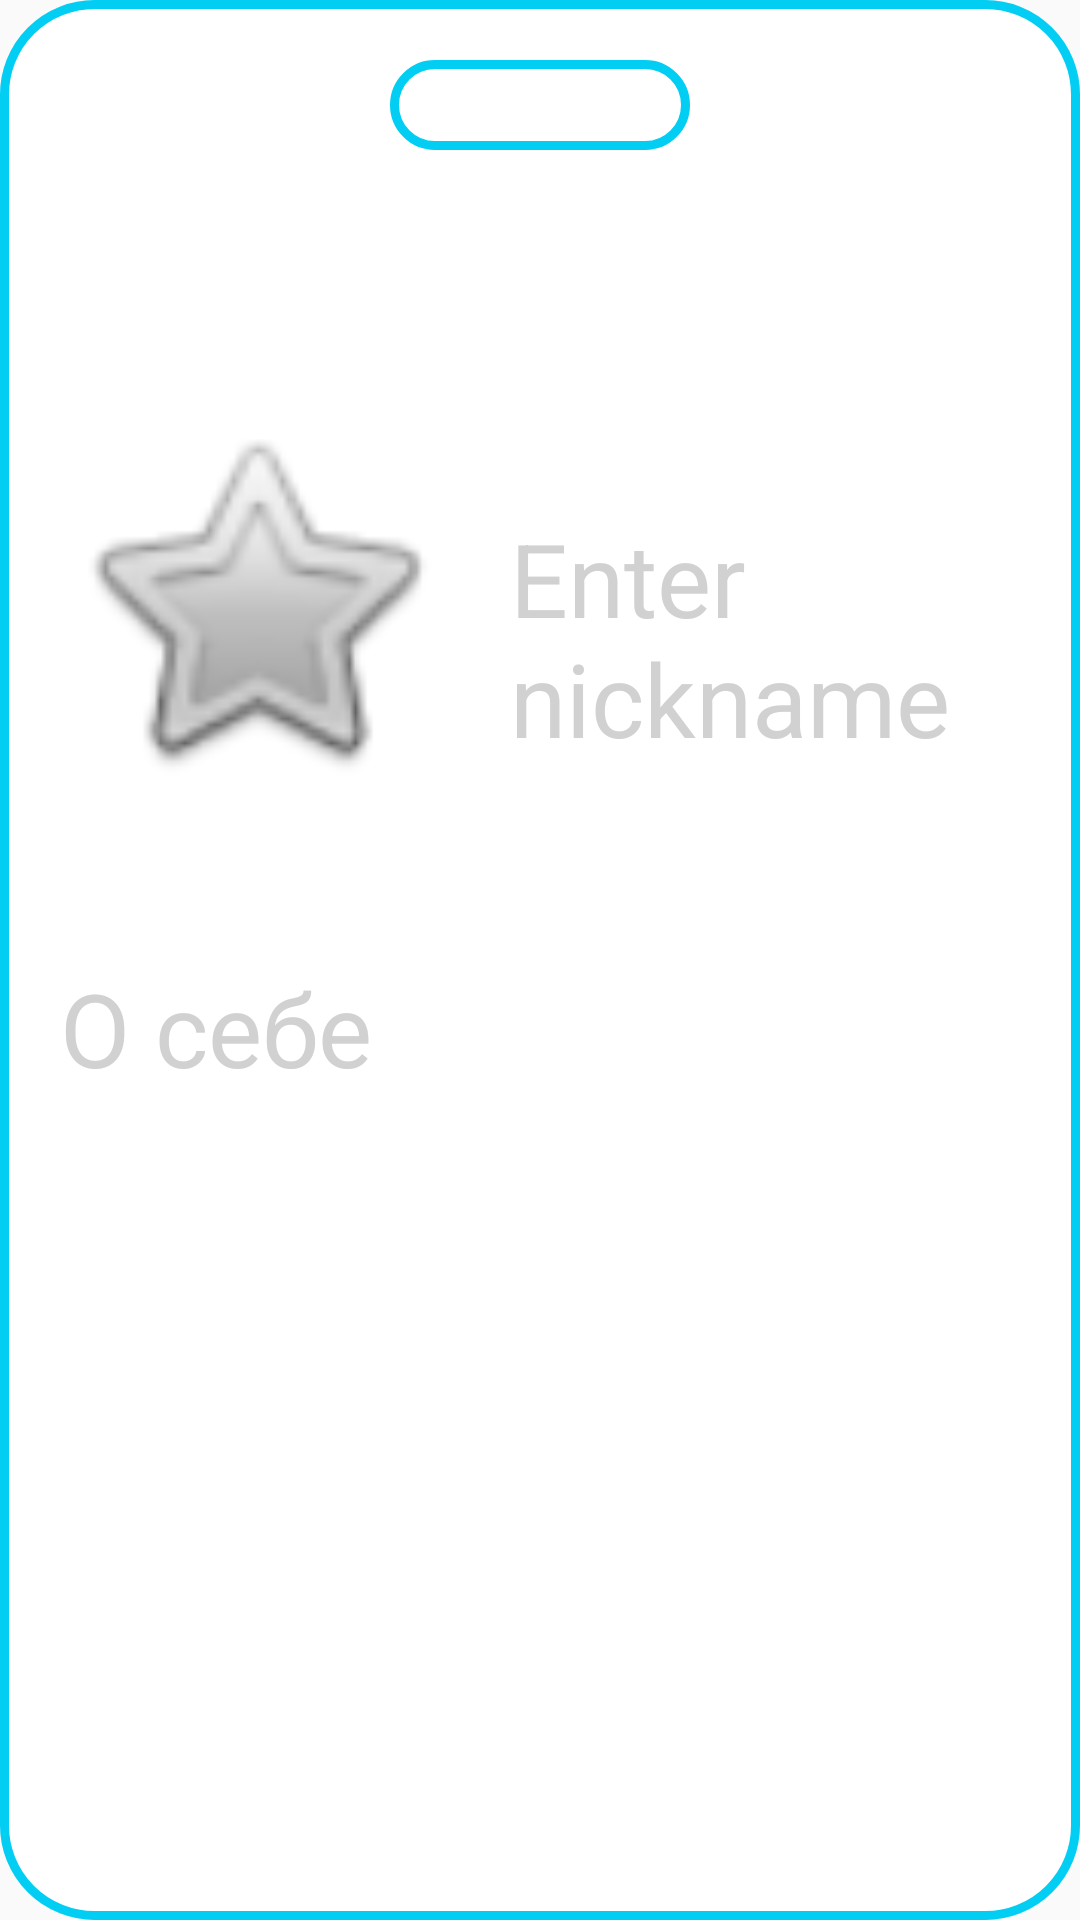

Icons on this 1080w x 1920h Android screen, each with its box as (x1, y1, x2, y2):
star: (95, 444, 421, 762)
